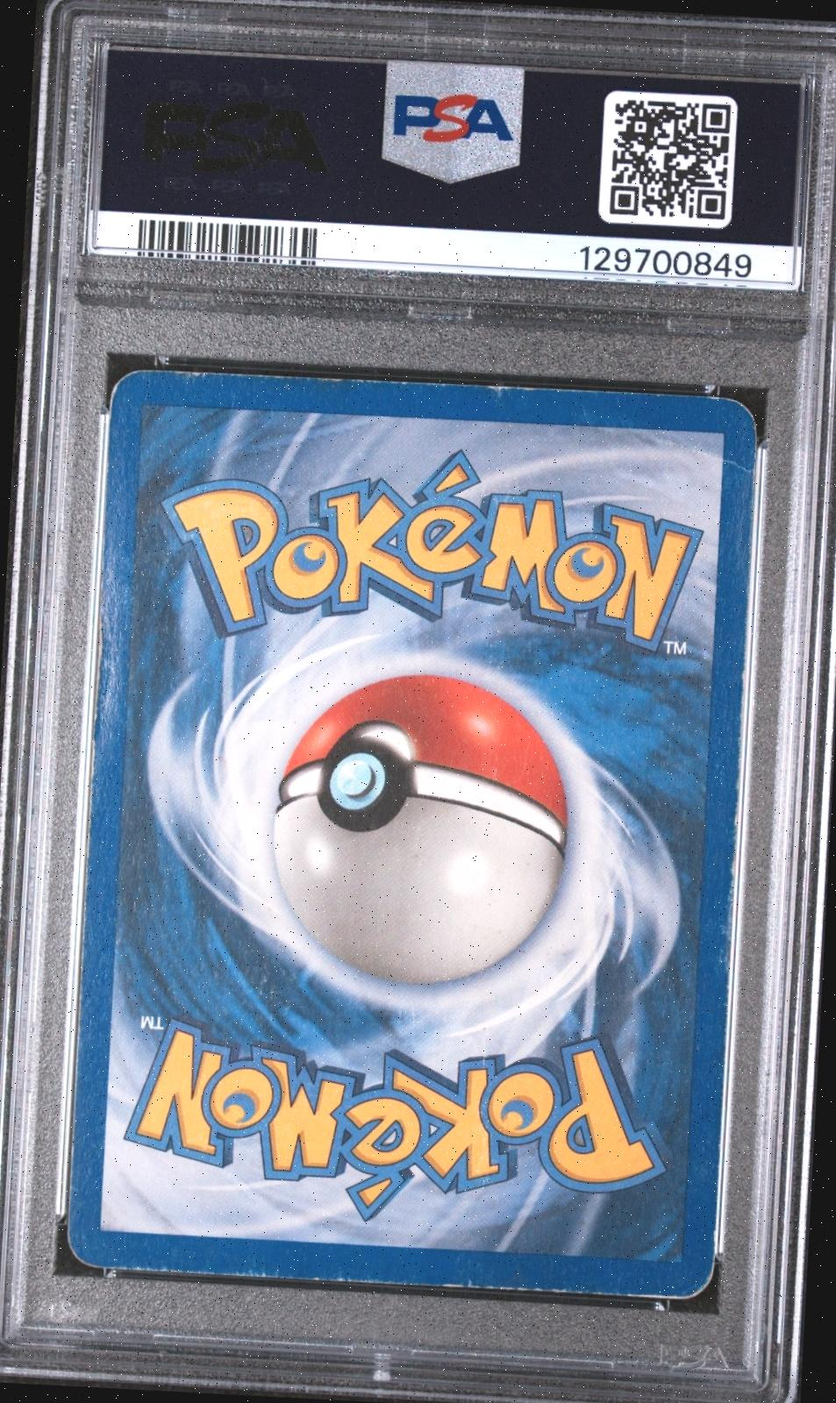card-2UtV: (66, 368, 757, 1300)
